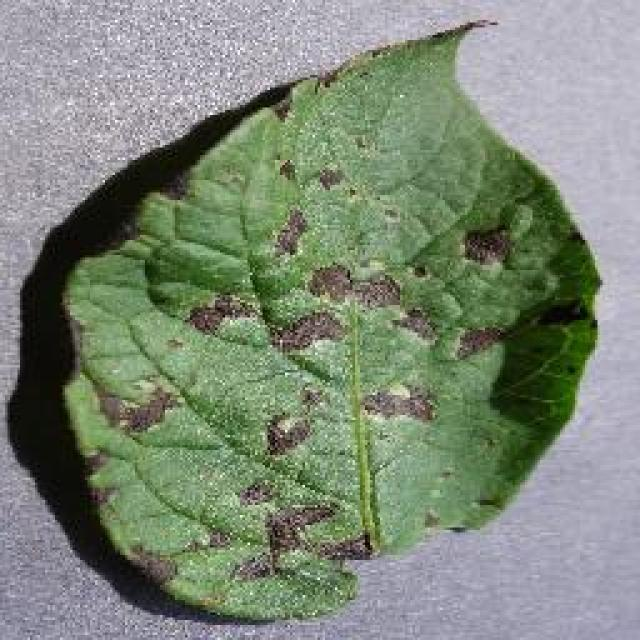early_blight: (53, 15, 605, 625)
